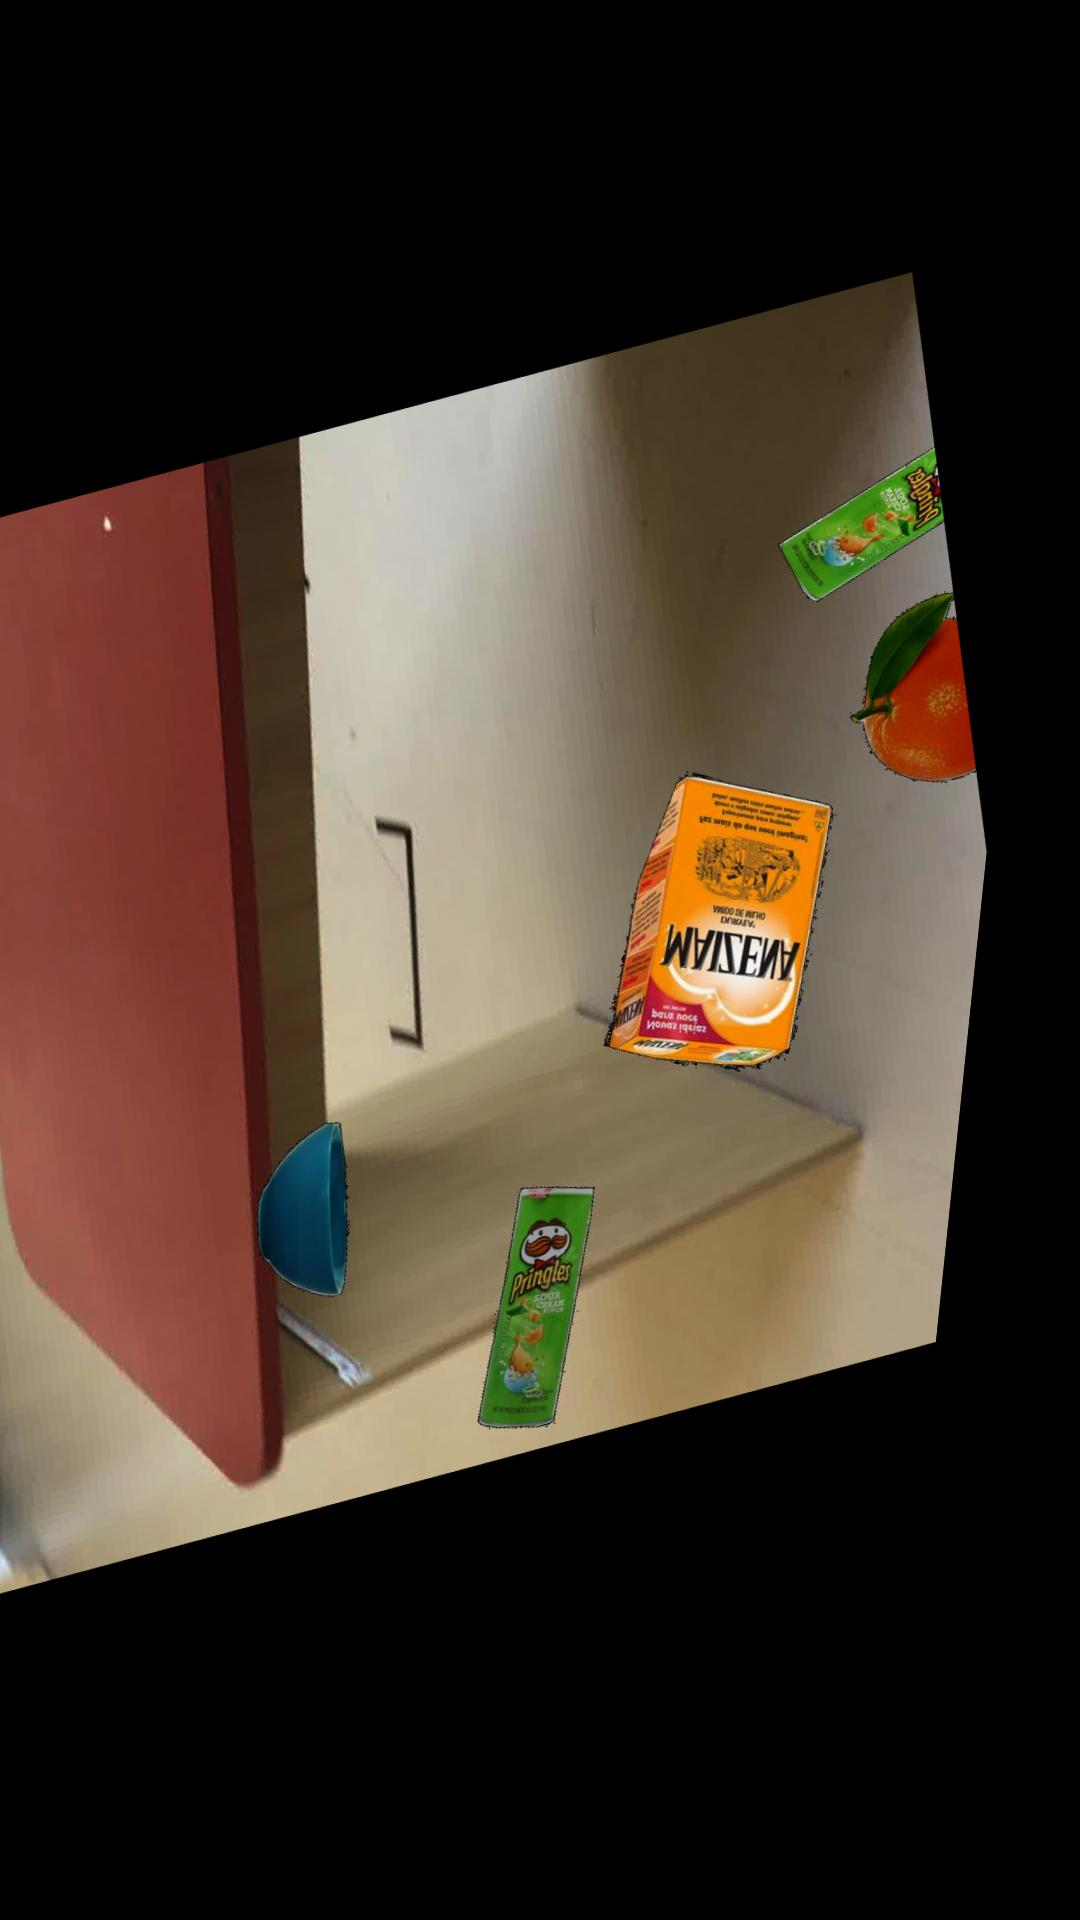bowl: (282, 1126, 376, 1302)
orange: (865, 601, 994, 793)
pringles: (508, 1193, 620, 1435), (790, 456, 957, 611)
